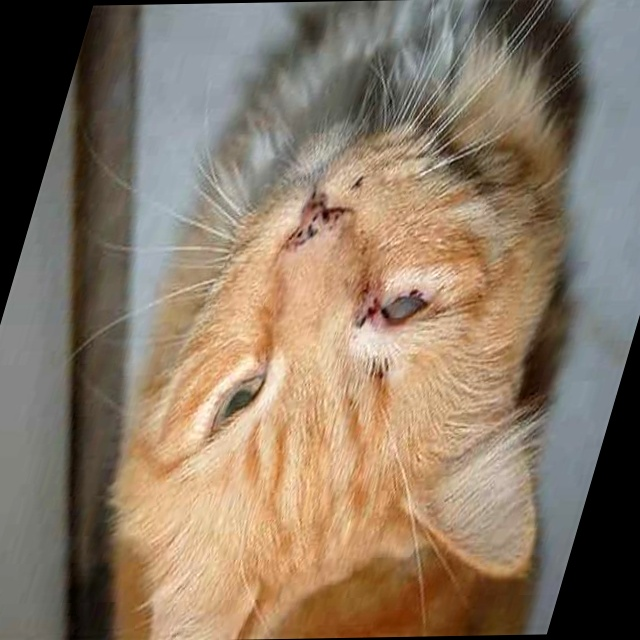eye_infection: (365, 286, 430, 327)
